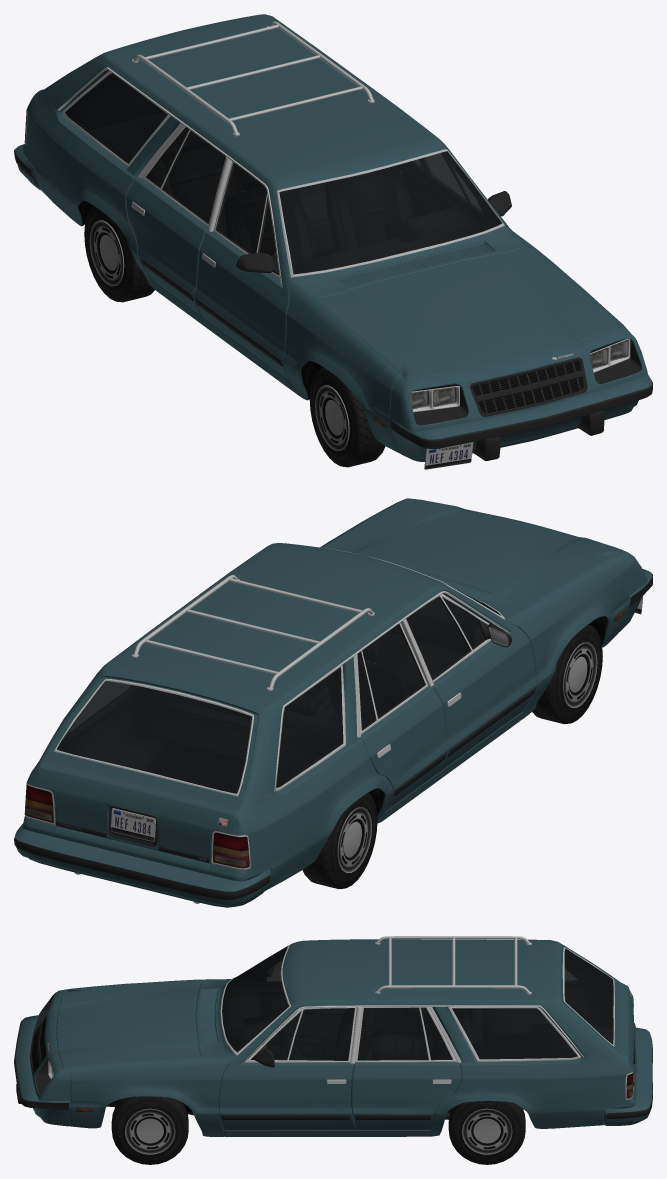
The model's file is cv-wagon.glb.
The picture shows the model from 3 angles, top to bottom: view 1: azimuth 30°, elevation 25°; view 2: azimuth 150°, elevation 25°; view 3: azimuth 270°, elevation 25°; orthographic projection. The views are drawn at different scales.
Visible parts, largest first — view 1: Fairheaven_LT80_Bottom006_UCB_BOTTOM_GT_0; view 2: Fairheaven_LT80_Bottom006_UCB_BOTTOM_GT_0; view 3: Fairheaven_LT80_Bottom006_UCB_BOTTOM_GT_0.
Part boxes in pixels (x1,y1,x2,y2): Fairheaven_LT80_Bottom006_UCB_BOTTOM_GT_0: [14, 14, 652, 469]; Fairheaven_LT80_Bottom006_UCB_BOTTOM_GT_0: [14, 498, 652, 907]; Fairheaven_LT80_Bottom006_UCB_BOTTOM_GT_0: [14, 936, 652, 1164].
Bounding box in the file's own units: 1.85 × 1.39 × 5.
Materials: 8 (7 with a texture image).
